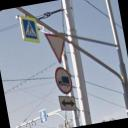preferencia: (43, 31, 68, 65)
